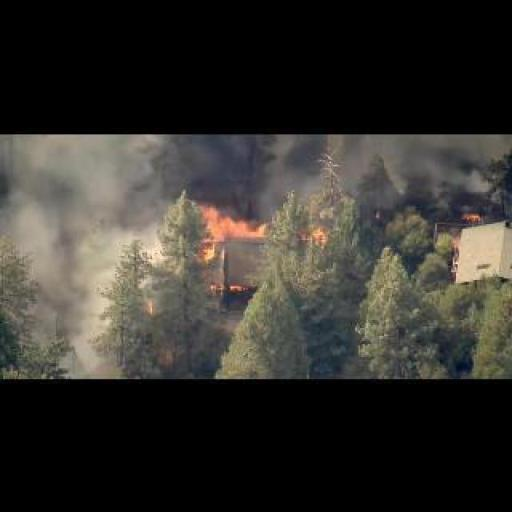smoke: (130, 136, 326, 206), (184, 200, 282, 296), (312, 226, 326, 250)
